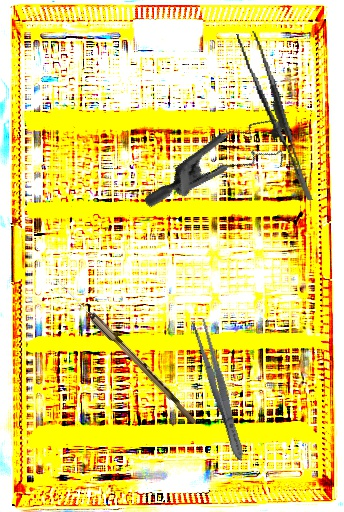Dressing Forceps: (188, 316, 250, 464)
Speculum: (142, 82, 302, 255)
Surgical Spoon: (50, 275, 201, 425)
Tissue Forceps: (236, 26, 313, 208)
